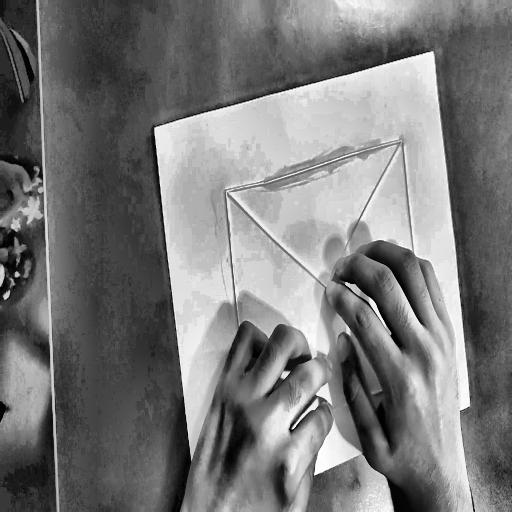bottom_left: (199, 499, 206, 510)
bottom_right: (467, 400, 473, 409)
envelop: (217, 135, 438, 457)
top_left: (152, 124, 157, 133)
top_right: (430, 48, 436, 57)
